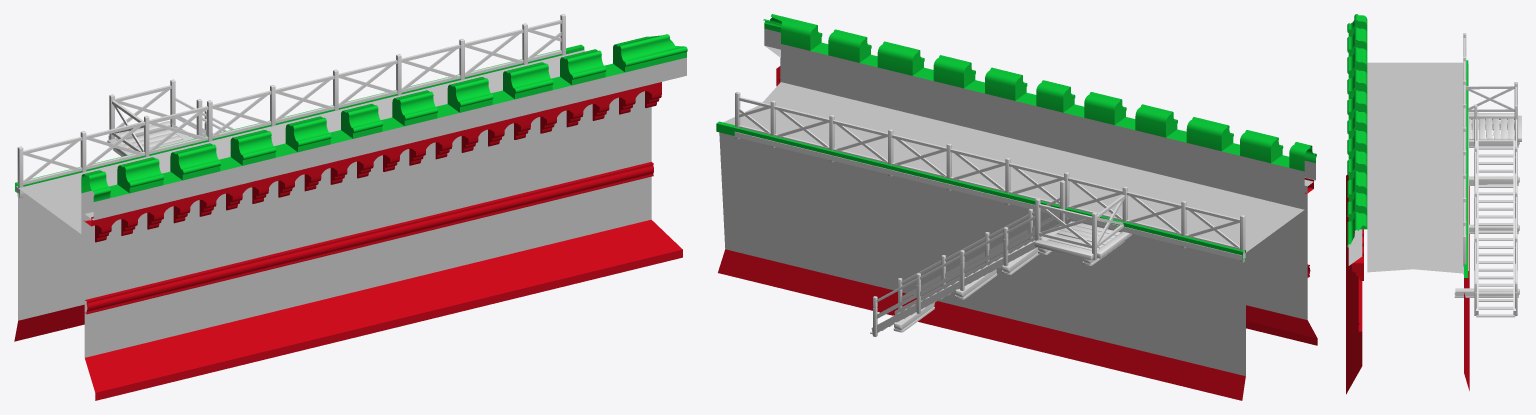
File: Wall_3.fbx
3 views of the same model, side by side, from view 1: azimuth 30°, elevation 25°; view 2: azimuth 150°, elevation 25°; view 3: azimuth 270°, elevation 25° (orthographic). The views are drawn at different scales.
Parts seen in each view (by area): view 1: Group_4.015, Group_3.009, Group_3.005, Group_3.010; view 2: Group_4.015, Group_3.009, Group_3.005, Group_3.010; view 3: Group_4.015, Group_3.005, Group_3.009.
Part boxes in pixels (box(x1,y1,x2,y2)): Group_4.015: box(14, 34, 687, 400); Group_3.009: box(16, 14, 565, 197); Group_3.005: box(107, 79, 234, 156); Group_3.010: box(149, 106, 208, 154); Group_4.015: box(716, 14, 1317, 400); Group_3.009: box(734, 91, 1245, 262); Group_3.005: box(870, 180, 1131, 336); Group_3.010: box(1066, 177, 1124, 231); Group_4.015: box(1346, 14, 1469, 394); Group_3.005: box(1454, 82, 1521, 317); Group_3.009: box(1463, 33, 1468, 274).
Bounding box in the file's own units: 1947 × 690 × 655.
